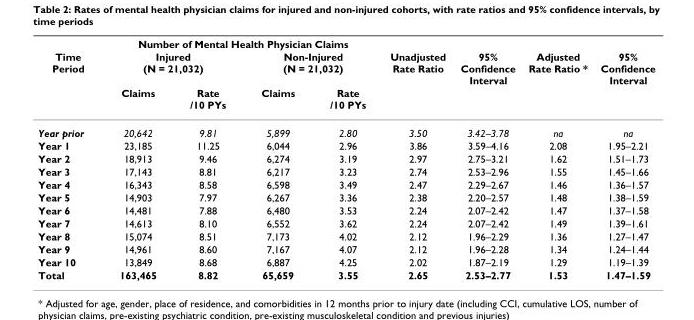table: (37, 37, 654, 280)
table column: (377, 37, 452, 280), (521, 37, 593, 280), (101, 37, 172, 280), (172, 37, 242, 280), (242, 37, 311, 280), (452, 37, 521, 280), (311, 37, 377, 280), (37, 37, 101, 280), (593, 37, 654, 280)
table column header: (37, 37, 654, 118)
table row: (37, 49, 654, 86), (37, 86, 654, 118), (37, 118, 654, 138), (37, 138, 654, 151), (37, 151, 654, 164), (37, 164, 654, 177), (37, 177, 654, 190), (37, 190, 654, 203), (37, 203, 654, 216), (37, 216, 654, 229), (37, 229, 654, 242), (37, 242, 654, 255), (37, 255, 654, 268), (37, 37, 654, 49), (37, 268, 654, 280)
table spanning cell: (377, 37, 452, 118), (521, 37, 593, 118), (452, 37, 521, 118), (101, 49, 242, 86), (37, 37, 101, 118), (242, 49, 377, 86), (593, 37, 654, 118), (101, 37, 377, 49)
